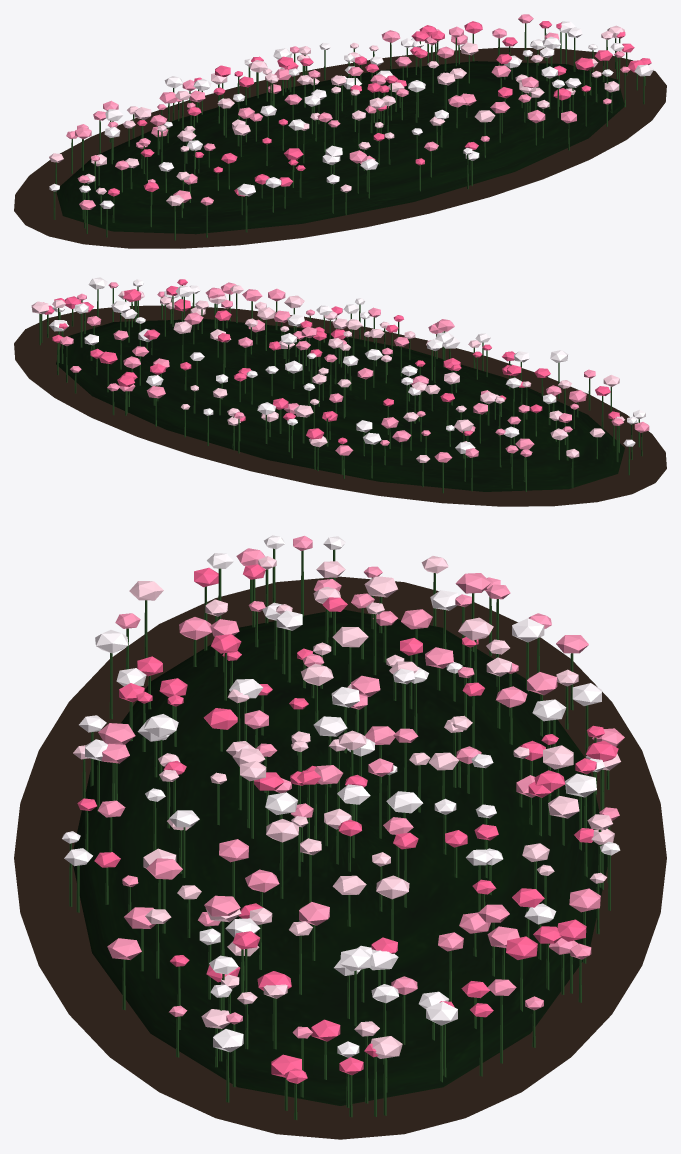
The model's file is flower-bed-3.glb.
3 views of the same model, one above another, from view 1: azimuth 30°, elevation 25°; view 2: azimuth 150°, elevation 25°; view 3: azimuth 270°, elevation 25° (orthographic). The views are drawn at different scales.
Visible parts, largest first — view 1: flower-bed-3_MeshStandardMaterial (×4); view 2: flower-bed-3_MeshStandardMaterial (×4); view 3: flower-bed-3_MeshStandardMaterial (×4).
Boxes of the visible parts, x1=… form: flower-bed-3_MeshStandardMaterial (×4): x1=14, y1=14, x2=666, y2=248; flower-bed-3_MeshStandardMaterial (×4): x1=14, y1=277, x2=666, y2=506; flower-bed-3_MeshStandardMaterial (×4): x1=14, y1=535, x2=666, y2=1139.
Bounding box in the file's own units: 5.1 × 0.5639 × 2.5.
4 materials, 1 textured.
